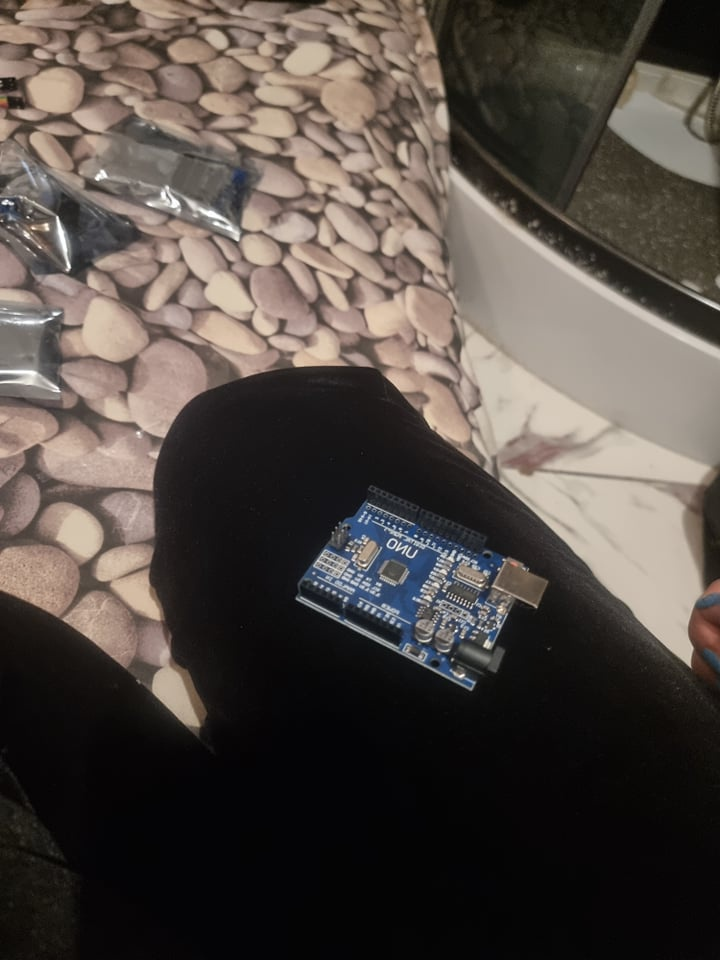UNO R3: (295, 485, 550, 695)
